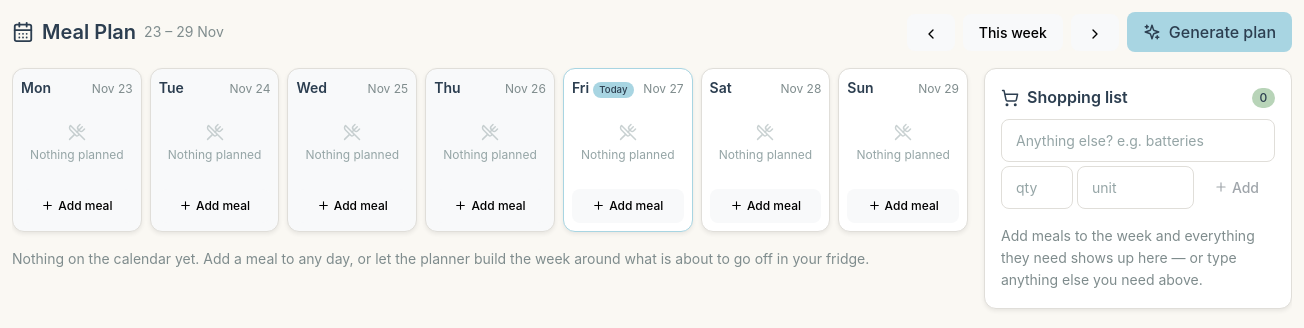
Scenario: generating a plan › asks the planner for the week on the board
The width and height of the screenshot is (1304, 328).
Expected: the heading "Meal Plan" is shown, [42, 19, 136, 45]
What coordinates should you click on to do the following:
click the button "Generate plan"
I would click on:
 (1209, 32)
Its box is [1127, 12, 1292, 52].
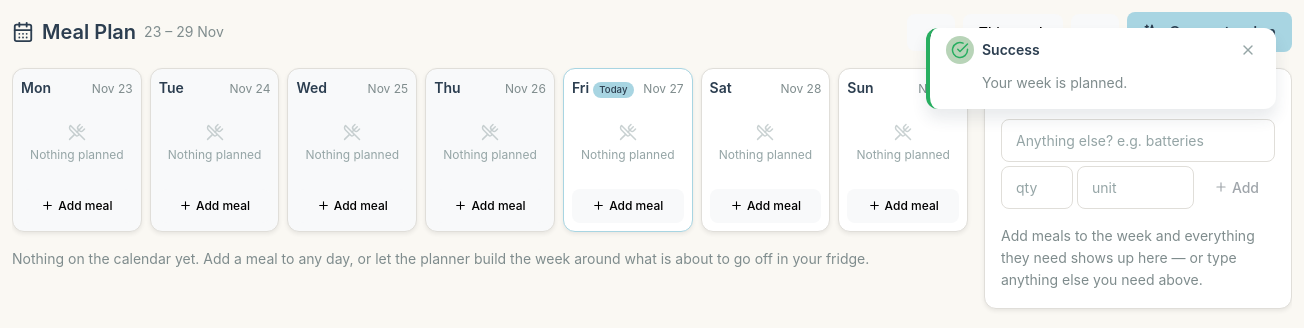
Expected: the text "Your week is planned." is shown, [982, 74, 1127, 91]
